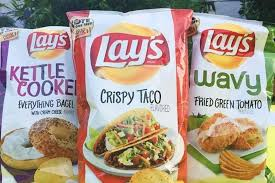lays-med: (65, 11, 185, 183), (193, 10, 265, 183)
